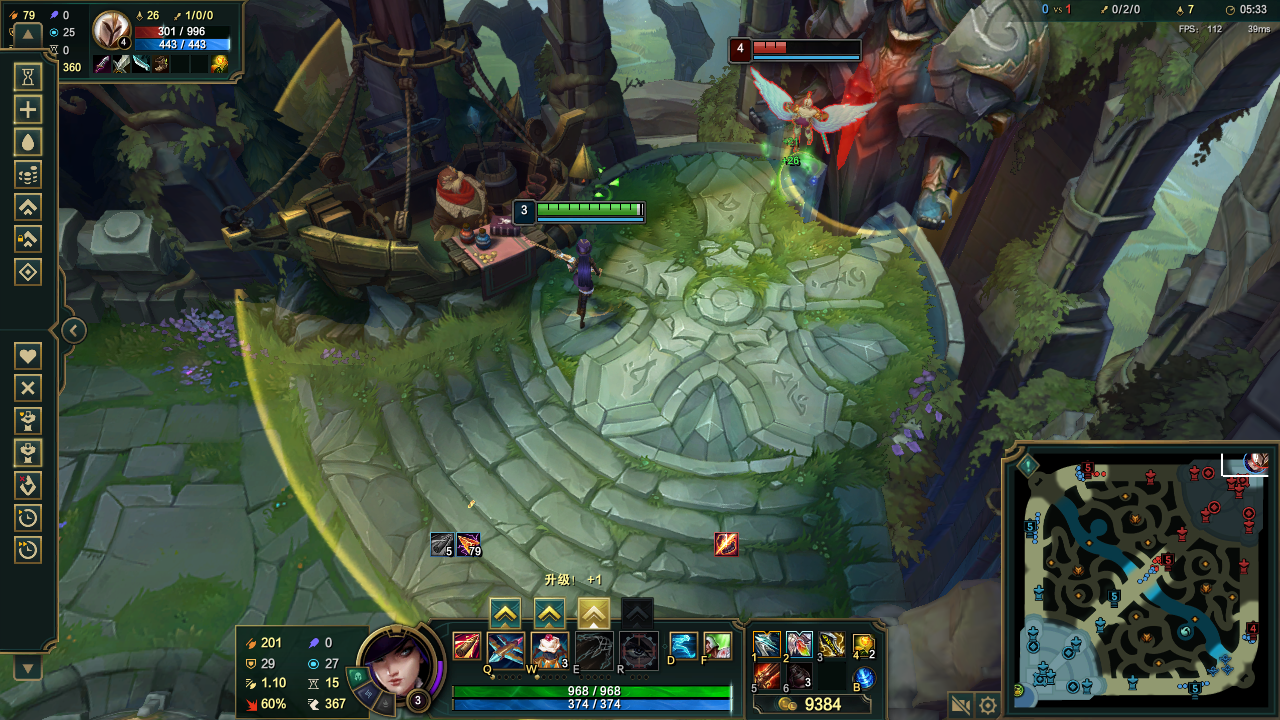DFYX: (751, 40, 864, 51)
